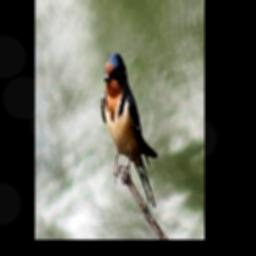Swallow: (99, 50, 155, 209)
